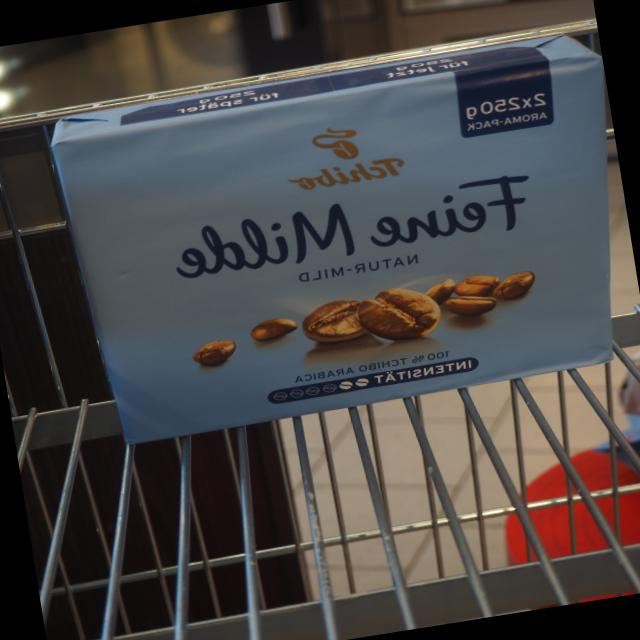FM Gemahlen: (35, 21, 624, 456)
